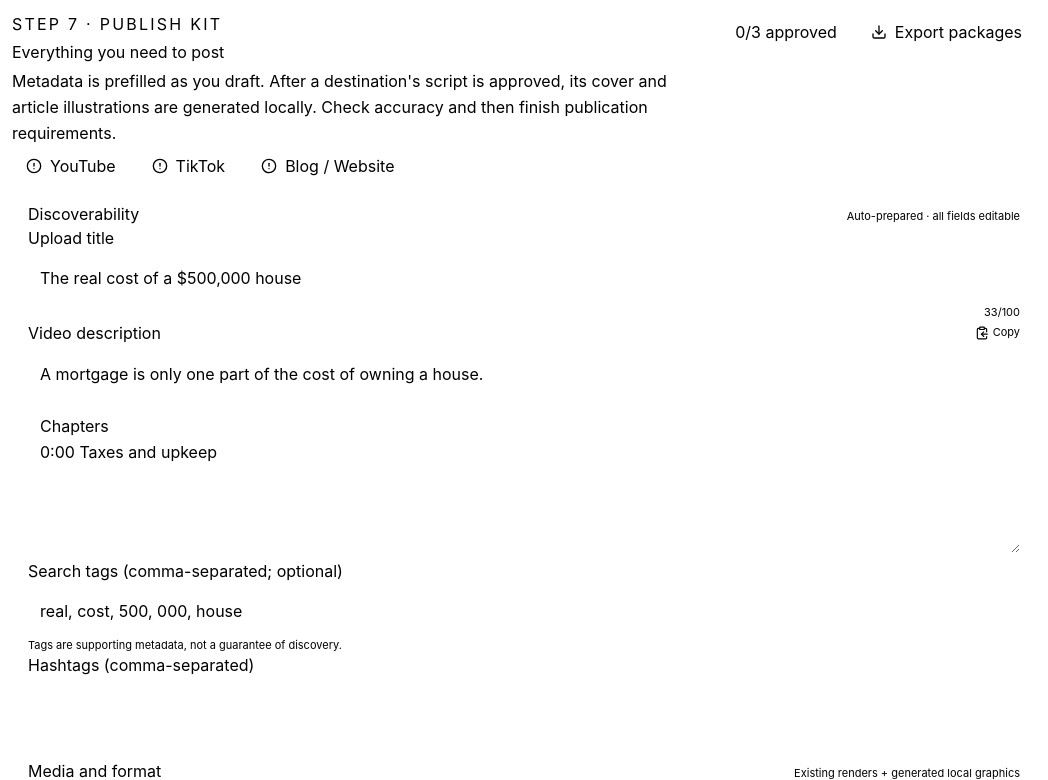
Test case: PlatformOptimization › keeps each field's label separate from its restore and copy actions
Replace the text in the field labelled "Upload title" with "A human title" at point(524, 278), box [28,256,1020,300]
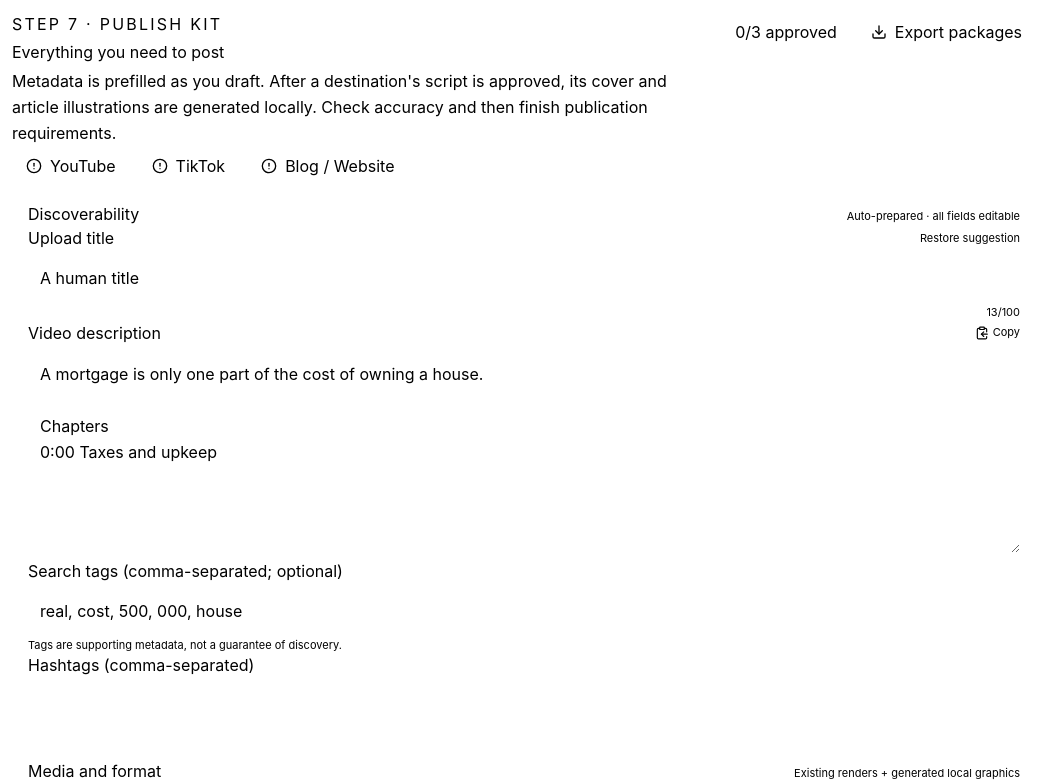
Check: the text box labelled "Video description" is shown, box [28,350,1020,552]
Check: the button "Restore suggestion" is shown, box [920,230,1020,246]
